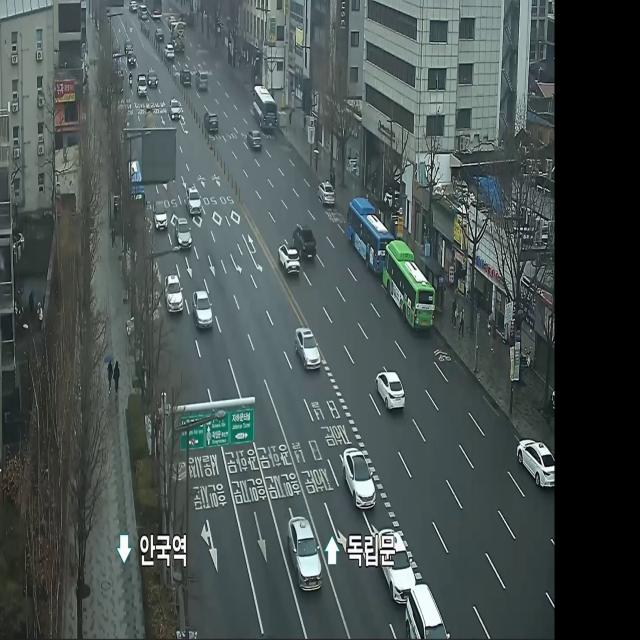car: (376, 233, 441, 339), (344, 188, 399, 282), (249, 80, 281, 134)
motorcycle: (283, 502, 326, 598), (372, 527, 422, 607), (338, 436, 384, 520), (509, 426, 558, 503), (399, 581, 455, 640), (367, 359, 410, 427), (290, 318, 326, 382), (190, 284, 220, 340), (273, 238, 302, 288), (290, 218, 322, 263), (162, 272, 186, 319), (313, 174, 340, 213), (172, 216, 195, 253), (184, 182, 204, 219), (152, 197, 171, 235), (202, 103, 222, 137), (244, 126, 263, 156), (168, 96, 184, 123)
